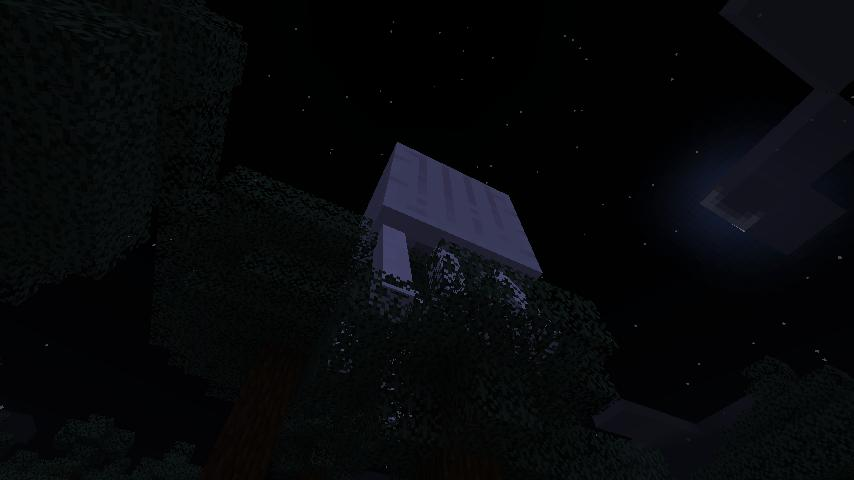ghast: (349, 141, 546, 329)
